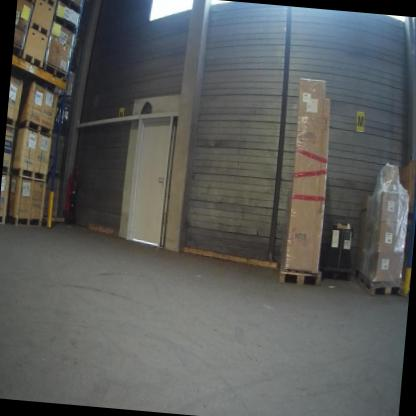pallet: (357, 272, 402, 299), (279, 266, 323, 288), (16, 118, 54, 140), (12, 167, 48, 183), (6, 215, 42, 230), (51, 15, 78, 35), (43, 62, 69, 82), (21, 51, 45, 69), (57, 0, 83, 15), (29, 18, 52, 34), (6, 114, 19, 133), (37, 0, 57, 10), (13, 41, 24, 58), (2, 161, 11, 176), (18, 0, 37, 6), (0, 213, 6, 227)
